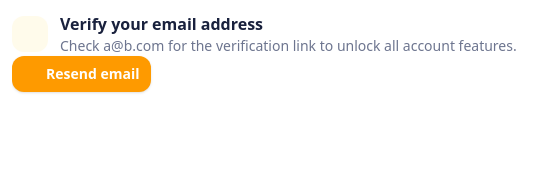
Scenario: EmailVerificationBanner resend › shows why the resend failed instead of staying silent
Click the button "Resend email": (82, 74) [12,56,152,92]
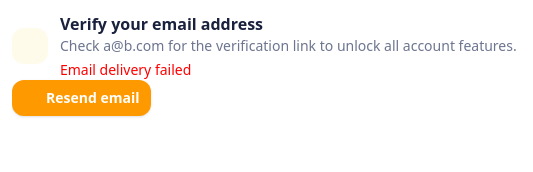
expect the button "Resend email" is enabled: met, box [12,80,152,116]
expect the message reads "Email delivery failed": met, box [60,60,191,79]
